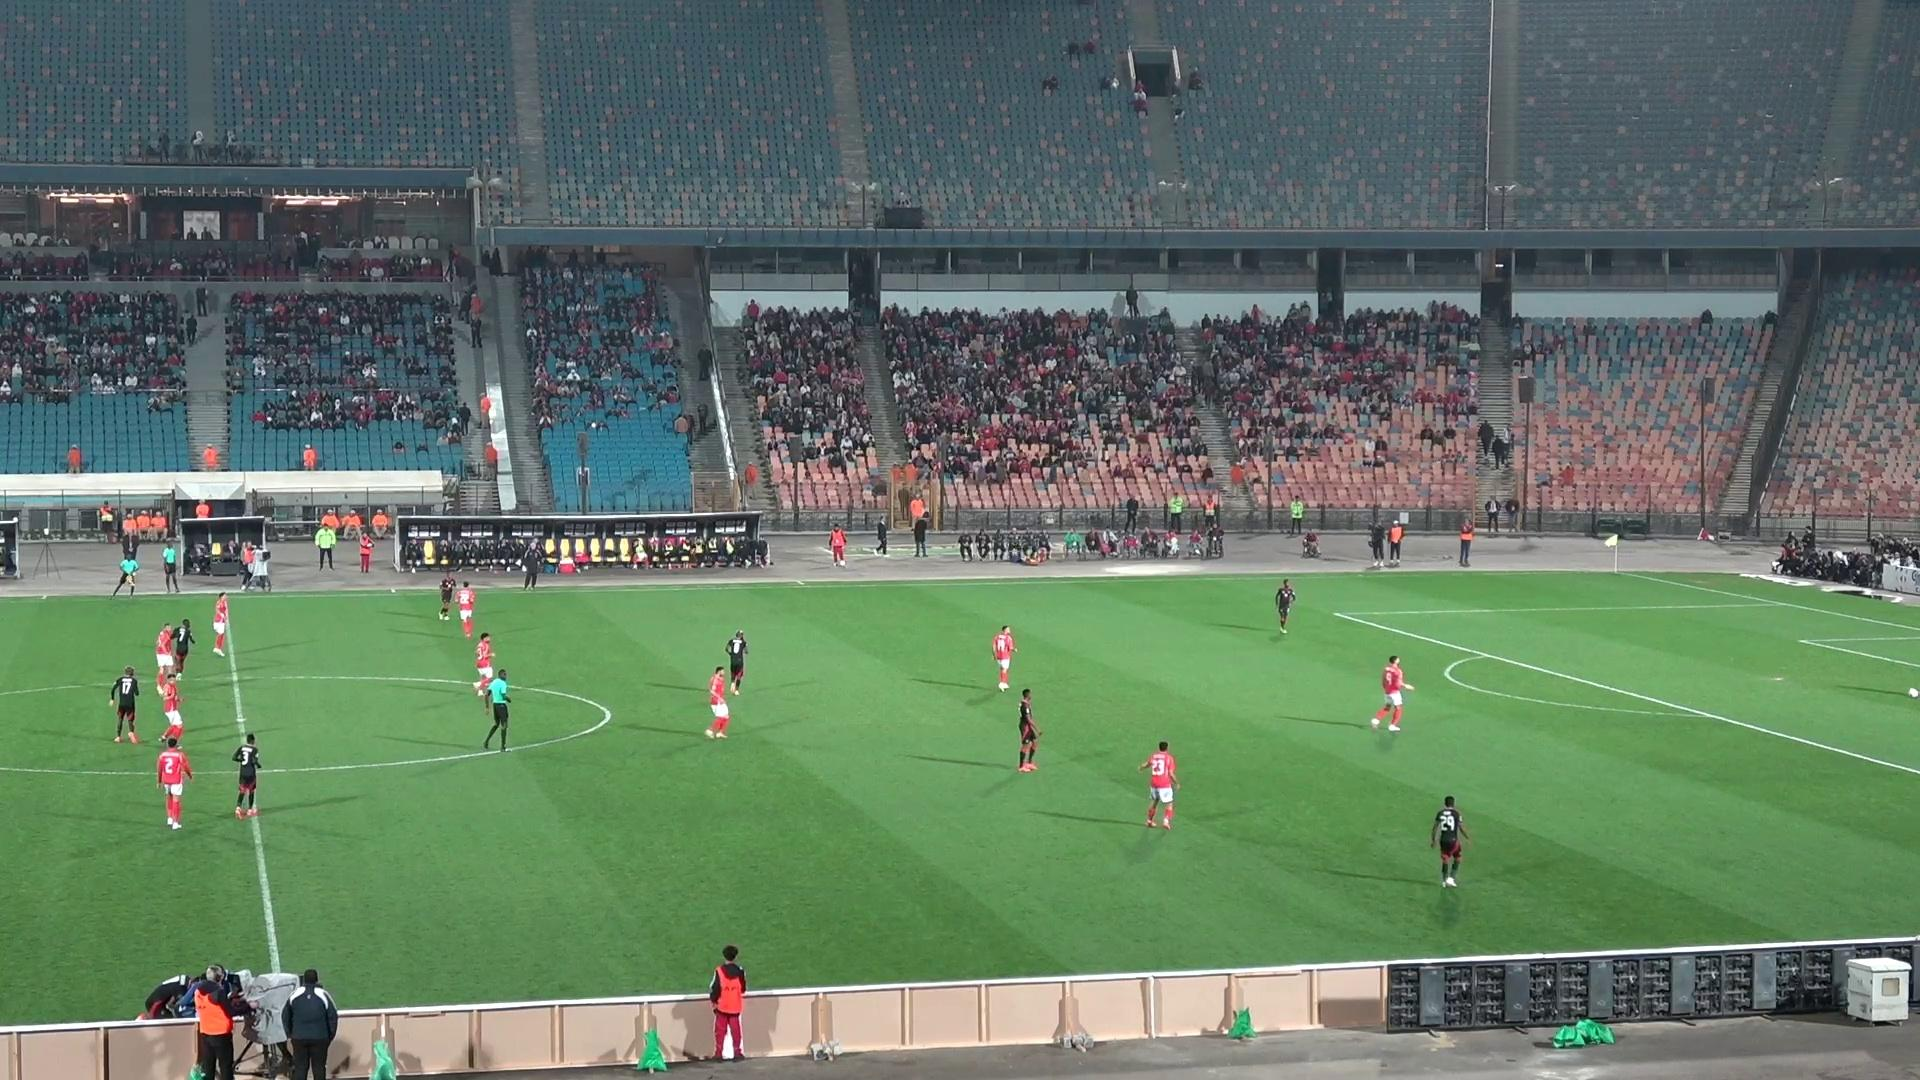Ball: (1907, 684, 1919, 702)
Refree: (473, 669, 512, 752), (109, 554, 140, 596), (161, 541, 182, 593)
Team1: (1367, 655, 1414, 731), (156, 737, 193, 829), (1143, 741, 1178, 829), (156, 671, 185, 740), (704, 667, 731, 738), (990, 626, 1015, 694), (211, 593, 232, 655), (473, 634, 496, 692), (454, 582, 477, 634), (156, 622, 175, 675)
Team2: (1429, 795, 1473, 876), (231, 735, 261, 818), (108, 667, 140, 742), (1015, 688, 1040, 771), (716, 630, 748, 694), (1275, 578, 1298, 634), (173, 618, 195, 674), (436, 574, 459, 620)
